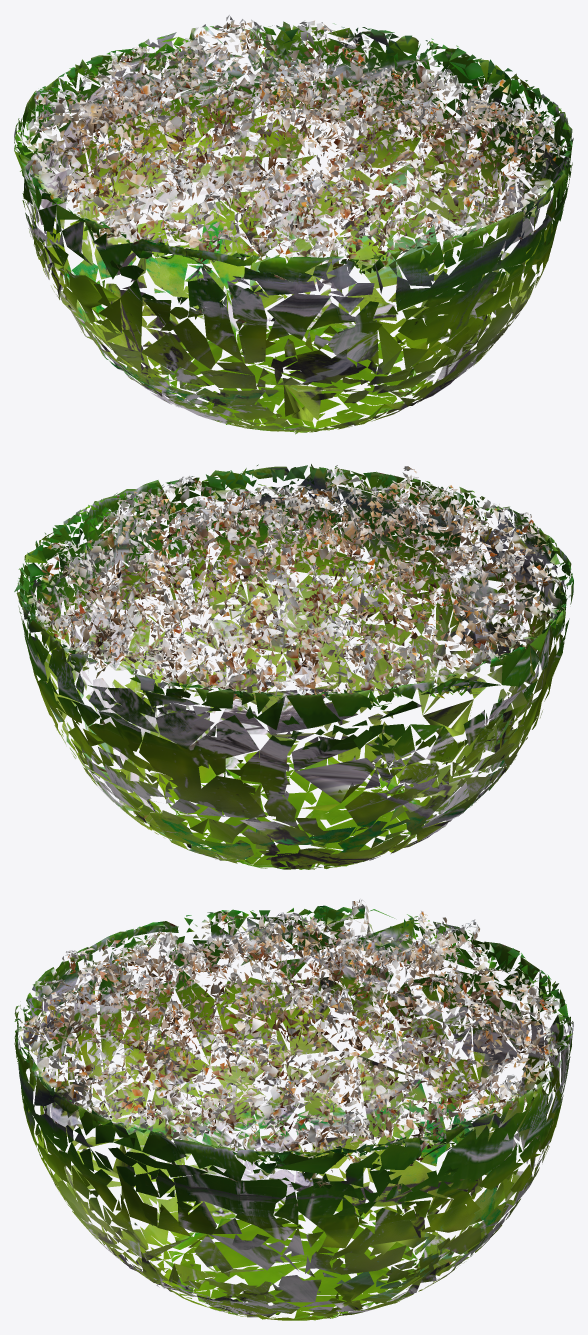
File: popcorn_bowl.glb
3 renders of one model, top to bottom at view 1: azimuth 30°, elevation 25°; view 2: azimuth 150°, elevation 25°; view 3: azimuth 270°, elevation 25°, orthographic.
Visible parts, largest first — view 1: Object_4, Object_2, Object_5, Object_3, Object_10, Object_6, Object_9, Object_14, Object_13, Object_15, Object_7, Object_11 (+7 smaller); view 2: Object_4, Object_2, Object_5, Object_10, Object_3, Object_6, Object_9, Object_13, Object_15, Object_14, Object_12, Object_11 (+6 smaller); view 3: Object_2, Object_4, Object_5, Object_10, Object_3, Object_9, Object_14, Object_6, Object_13, Object_12, Object_11, Object_15 (+6 smaller).
Boxes of the visible parts, <box> form: Object_4: <box>14,25,570,432</box>; Object_2: <box>14,24,573,430</box>; Object_5: <box>18,21,572,425</box>; Object_3: <box>34,16,572,402</box>; Object_10: <box>17,22,563,301</box>; Object_6: <box>34,22,569,431</box>; Object_9: <box>19,22,556,321</box>; Object_14: <box>31,20,556,357</box>; Object_13: <box>16,23,557,425</box>; Object_15: <box>20,15,570,406</box>; Object_7: <box>25,15,562,432</box>; Object_11: <box>29,20,553,335</box>; Object_4: <box>17,469,566,869</box>; Object_2: <box>16,468,573,864</box>; Object_5: <box>18,469,573,867</box>; Object_10: <box>27,486,551,814</box>; Object_3: <box>30,467,570,869</box>; Object_6: <box>23,465,569,865</box>; Object_9: <box>22,465,569,848</box>; Object_13: <box>20,476,558,834</box>; Object_15: <box>24,466,566,843</box>; Object_14: <box>23,468,562,843</box>; Object_12: <box>47,472,571,760</box>; Object_11: <box>14,466,563,694</box>; Object_2: <box>43,899,571,1320</box>; Object_4: <box>15,899,569,1314</box>; Object_5: <box>15,914,570,1313</box>; Object_10: <box>20,905,558,1311</box>; Object_3: <box>23,908,572,1303</box>; Object_9: <box>17,901,553,1288</box>; Object_14: <box>15,909,562,1314</box>; Object_6: <box>23,907,573,1320</box>; Object_13: <box>21,910,558,1204</box>; Object_12: <box>22,918,546,1300</box>; Object_11: <box>14,912,572,1287</box>; Object_15: <box>15,913,552,1315</box>.
Bounding box in the file's own units: 0.2155 × 0.1264 × 0.2131.
2 materials, 2 textured.
